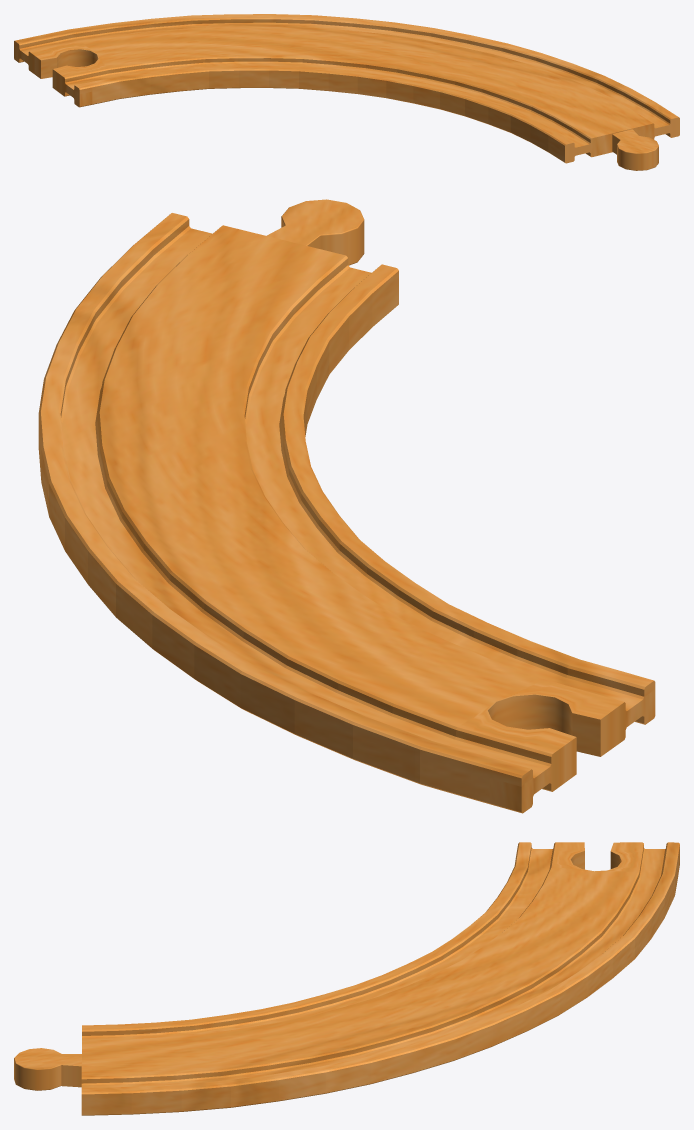
Rendered from WoodenTrack90.fbx.
The picture shows the model from 3 angles, top to bottom: view 1: azimuth 30°, elevation 25°; view 2: azimuth 150°, elevation 25°; view 3: azimuth 270°, elevation 25°; orthographic projection. The views are drawn at different scales.
Visible parts, largest first — view 1: Track90; view 2: Track90; view 3: Track90.
Part boxes in pixels (x1,y1,x2,y2): Track90: (14, 14, 679, 170); Track90: (38, 199, 655, 813); Track90: (14, 842, 679, 1115).
Size of the model in its own units: 8.82 by 0.3786 by 9.88.
